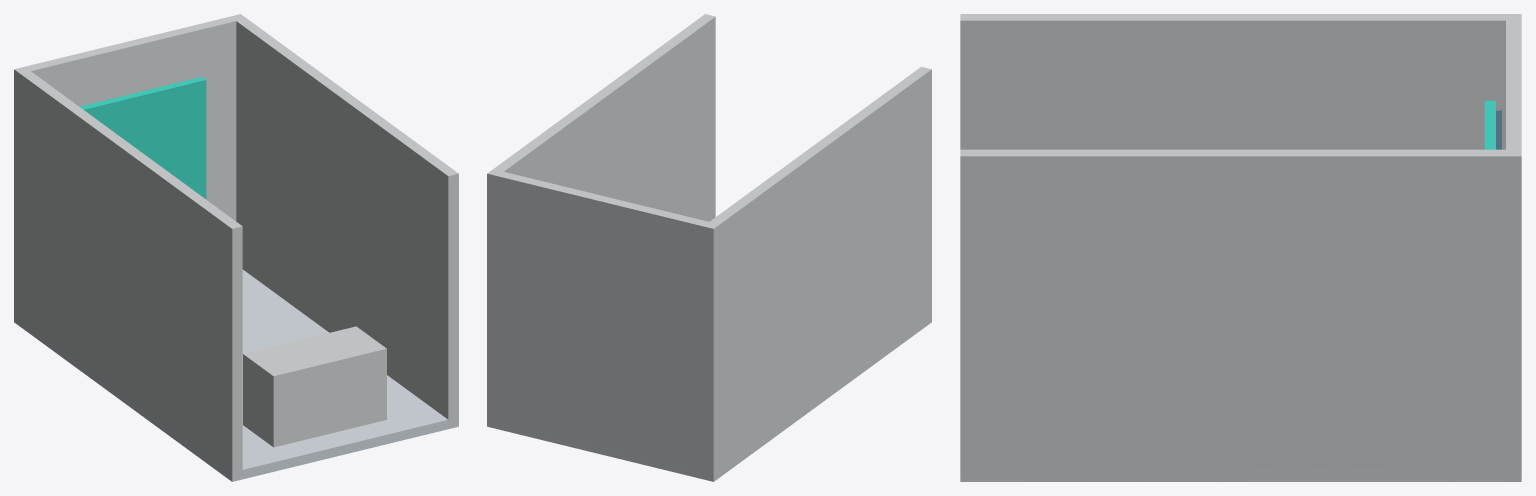
3 renders of one model, left to right at view 1: azimuth 30°, elevation 25°; view 2: azimuth 150°, elevation 25°; view 3: azimuth 270°, elevation 25°, orthographic. The views are drawn at different scales.
Visible parts, largest first — view 1: Exhibition Booth Concept; view 2: Exhibition Booth Concept; view 3: Exhibition Booth Concept.
Boxes of the visible parts, x1=… form: Exhibition Booth Concept: x1=14, y1=14, x2=458, y2=481; Exhibition Booth Concept: x1=487, y1=14, x2=931, y2=481; Exhibition Booth Concept: x1=960, y1=14, x2=1521, y2=481.
Size of the model in its own units: 3 by 3.2 by 5.
